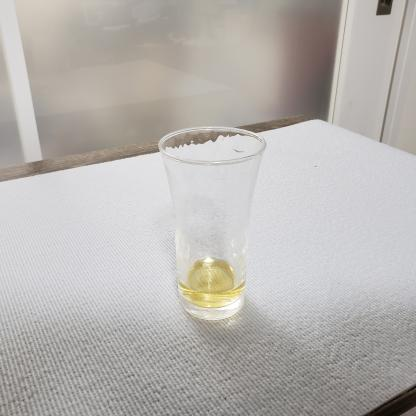glass: (152, 119, 283, 334)
